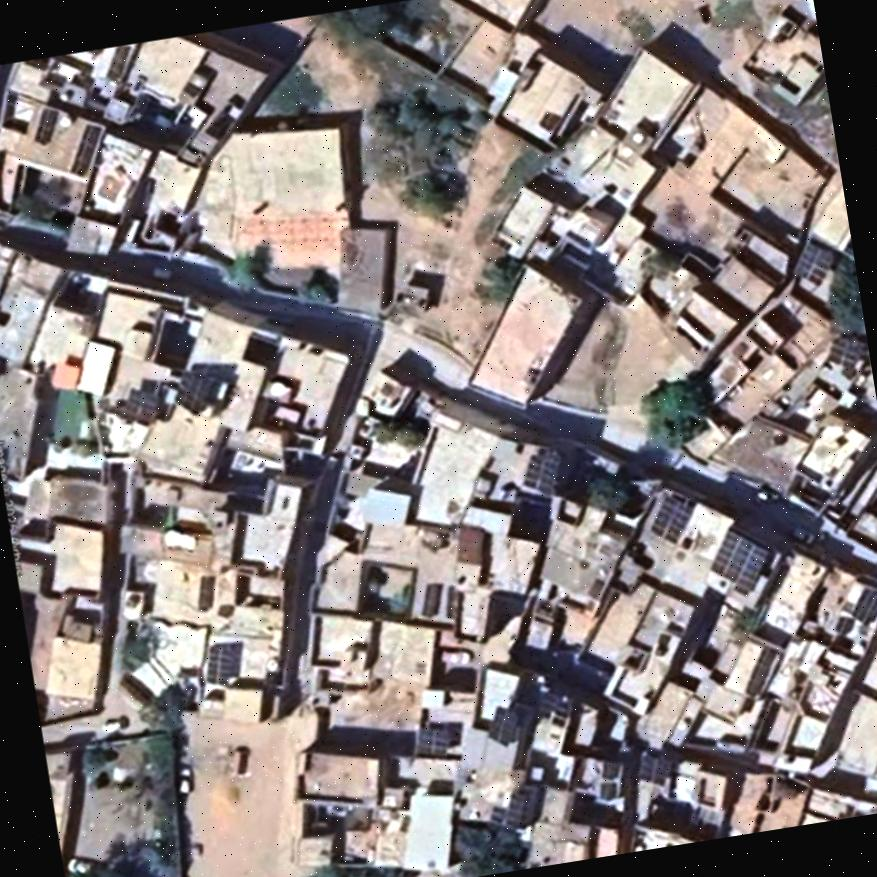Solarpanel: (709, 531, 766, 595), (650, 495, 692, 545), (794, 242, 835, 285), (72, 122, 100, 177), (487, 787, 524, 827), (523, 454, 557, 494), (175, 372, 208, 412), (634, 752, 672, 785), (123, 388, 155, 425), (829, 338, 860, 373), (207, 645, 233, 683), (488, 710, 517, 744), (414, 731, 449, 756), (35, 106, 56, 141)
